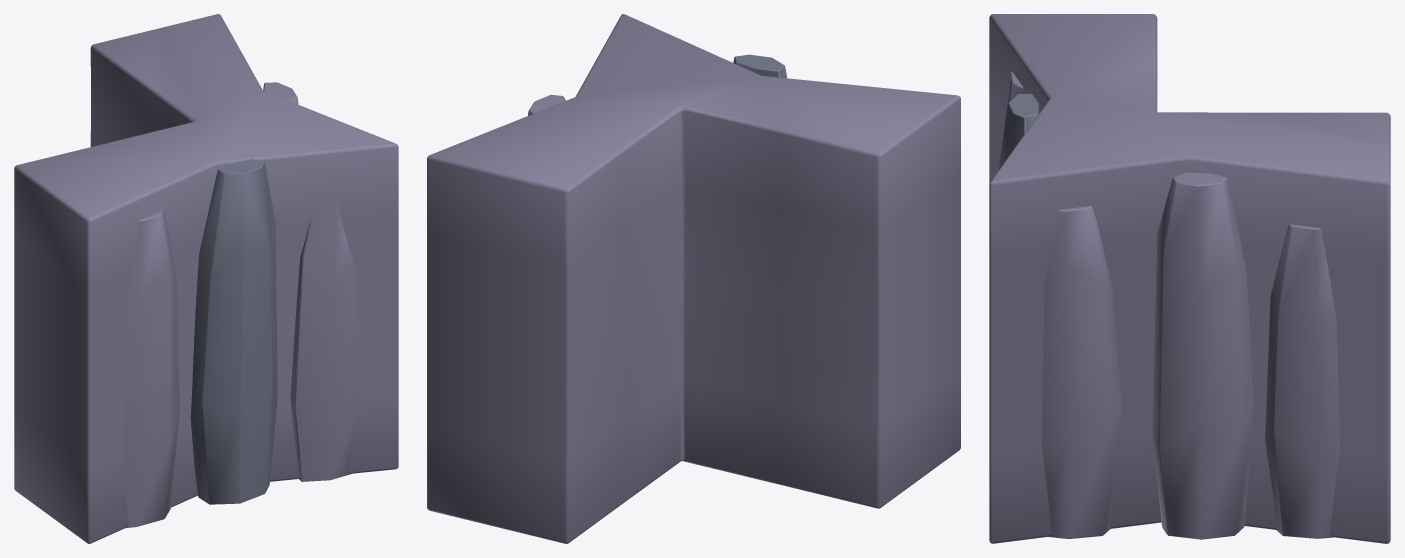
File: cliff_rock_side_corner_01.glb
3 views of the same model, side by side, from view 1: azimuth 30°, elevation 25°; view 2: azimuth 150°, elevation 25°; view 3: azimuth 270°, elevation 25° (orthographic). The views are drawn at different scales.
Parts seen in each view (by area): view 1: cliff_rock_side_corner_01; view 2: cliff_rock_side_corner_01; view 3: cliff_rock_side_corner_01.
Boxes of the visible parts, box(x1,y1,x2,y2) form: cliff_rock_side_corner_01: box(14, 14, 398, 543); cliff_rock_side_corner_01: box(427, 14, 960, 543); cliff_rock_side_corner_01: box(989, 14, 1390, 543).
Size of the model in its own units: 1 by 1 by 1.
